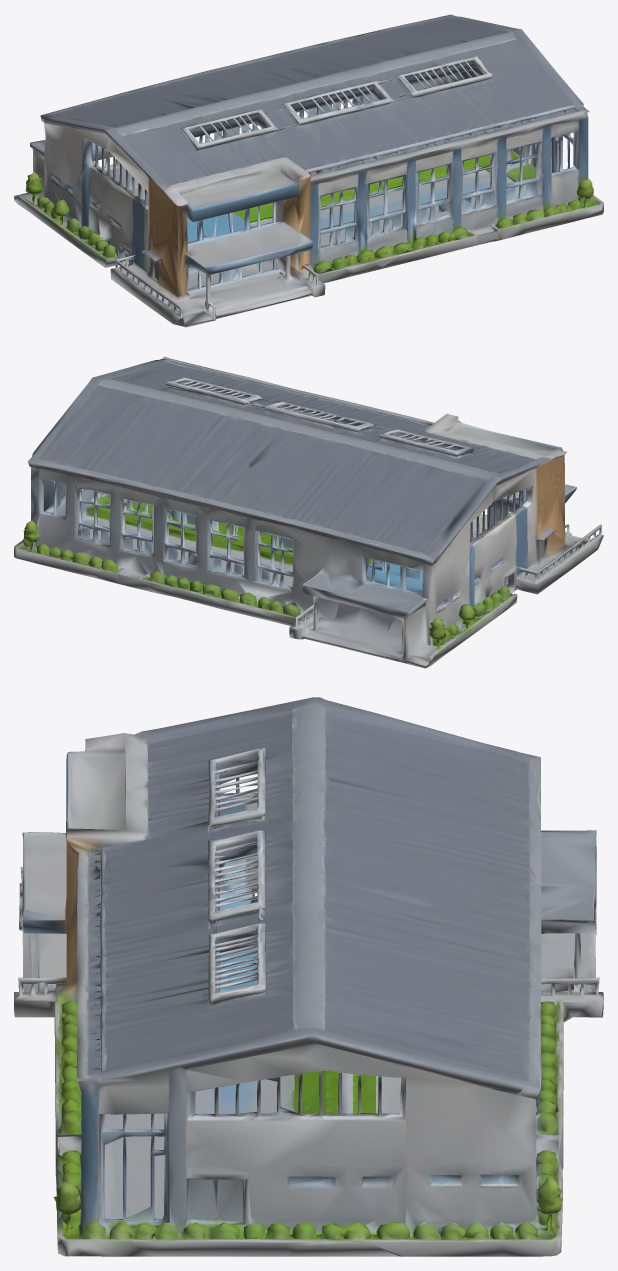
Rendered from expo.glb.
3 renders of one model, top to bottom at view 1: azimuth 30°, elevation 25°; view 2: azimuth 150°, elevation 25°; view 3: azimuth 270°, elevation 25°, orthographic. The views are drawn at different scales.
Parts seen in each view (by area): view 1: tripo_node_f0b9ae05-e21f-4459-a97b-9a61a3ea6348; view 2: tripo_node_f0b9ae05-e21f-4459-a97b-9a61a3ea6348; view 3: tripo_node_f0b9ae05-e21f-4459-a97b-9a61a3ea6348.
Boxes of the visible parts, x1=… form: tripo_node_f0b9ae05-e21f-4459-a97b-9a61a3ea6348: x1=14, y1=14, x2=603, y2=327; tripo_node_f0b9ae05-e21f-4459-a97b-9a61a3ea6348: x1=14, y1=356, x2=603, y2=668; tripo_node_f0b9ae05-e21f-4459-a97b-9a61a3ea6348: x1=14, y1=697, x2=603, y2=1256.
Bounding box in the file's own units: 1 × 0.2834 × 0.6975.
1 material, 1 textured.
